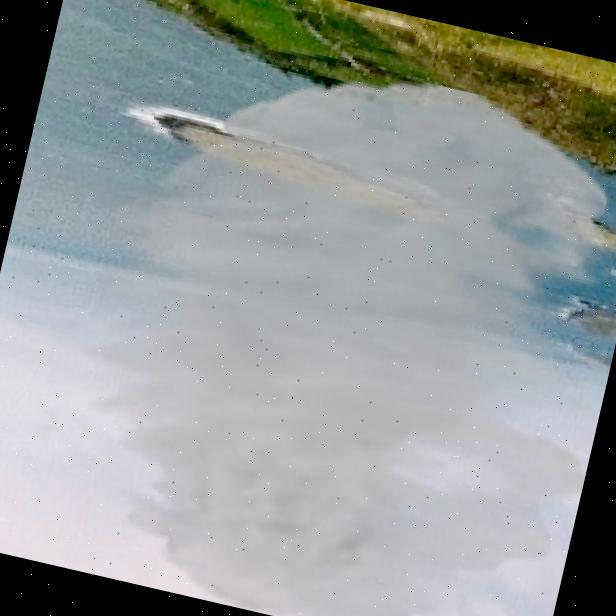smoke: (22, 18, 616, 616)
